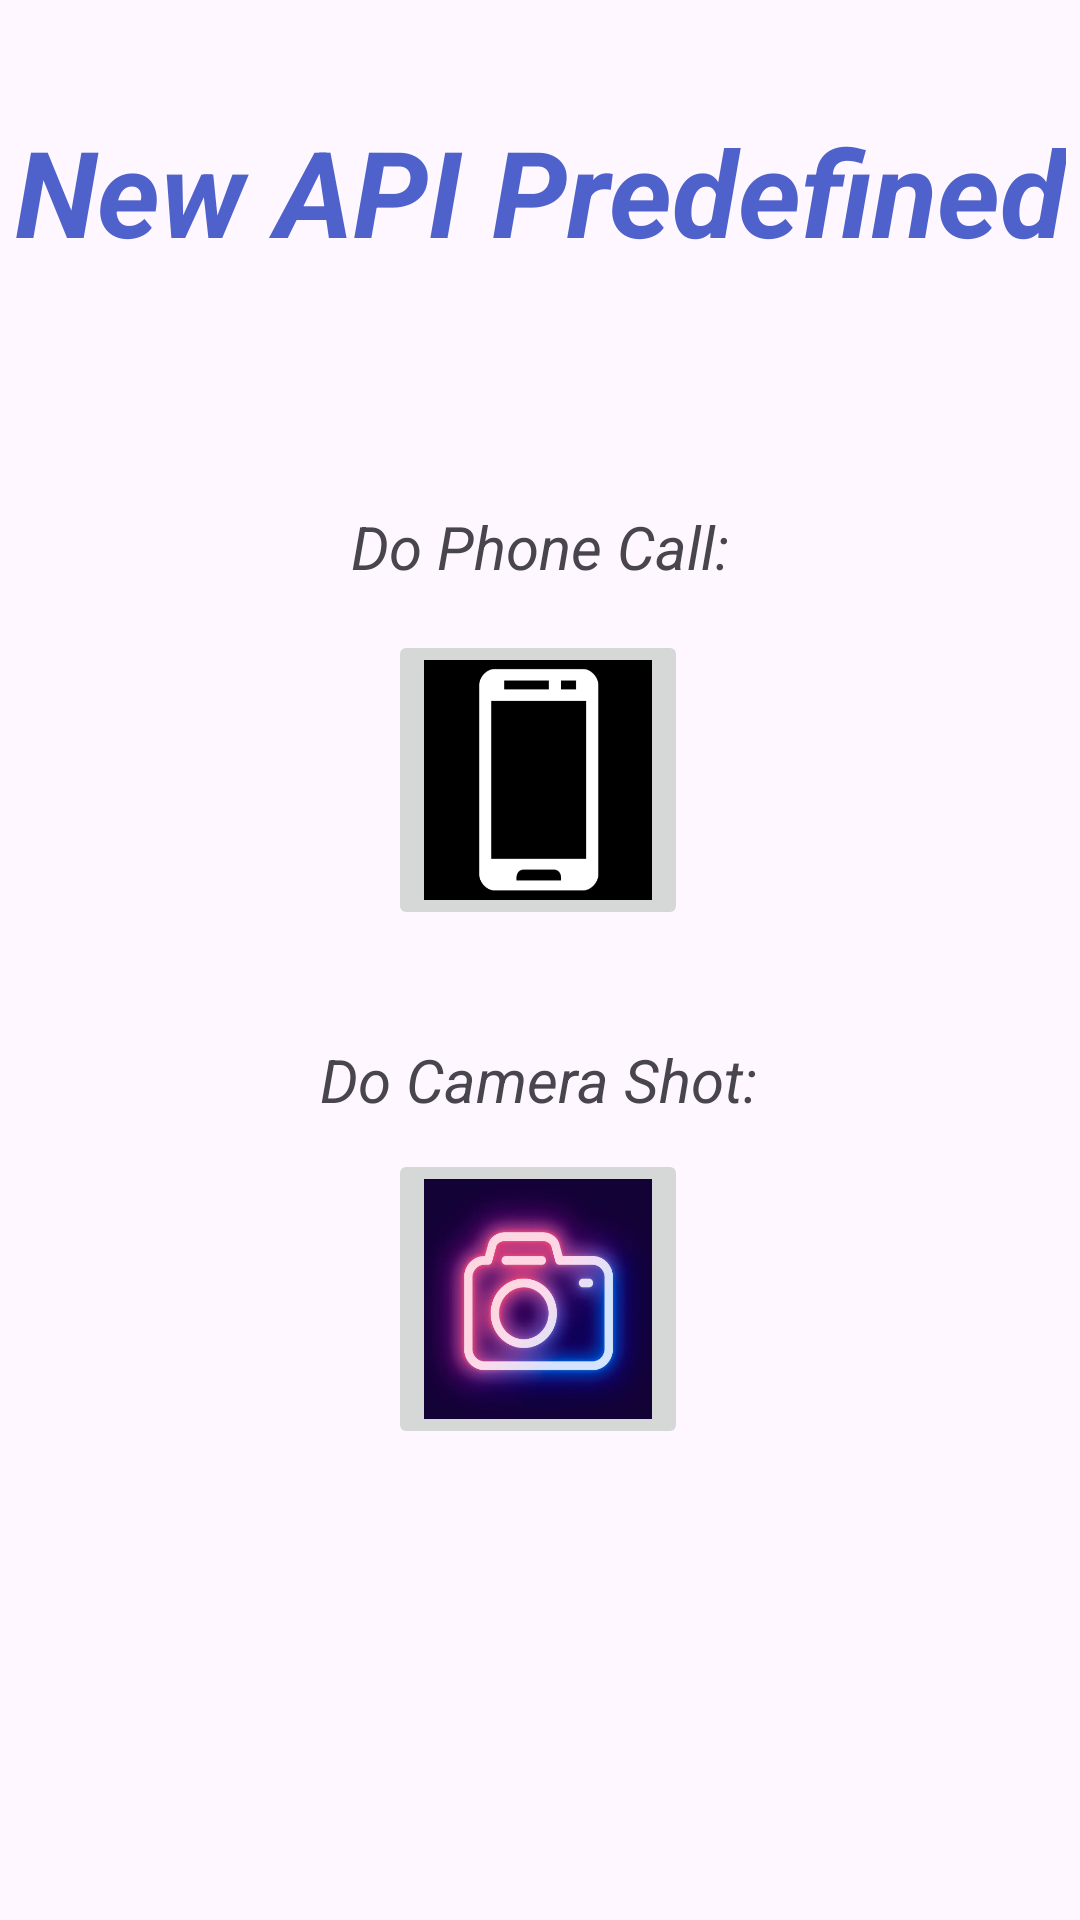

Where to tap for icons on this 1080 x 1920 app screen, as (x,y):
photo: (538,1299)
